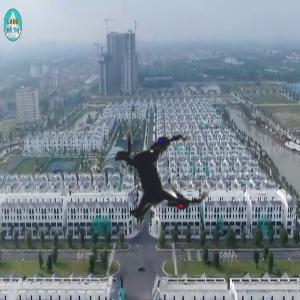drone: (60, 82, 246, 268)
